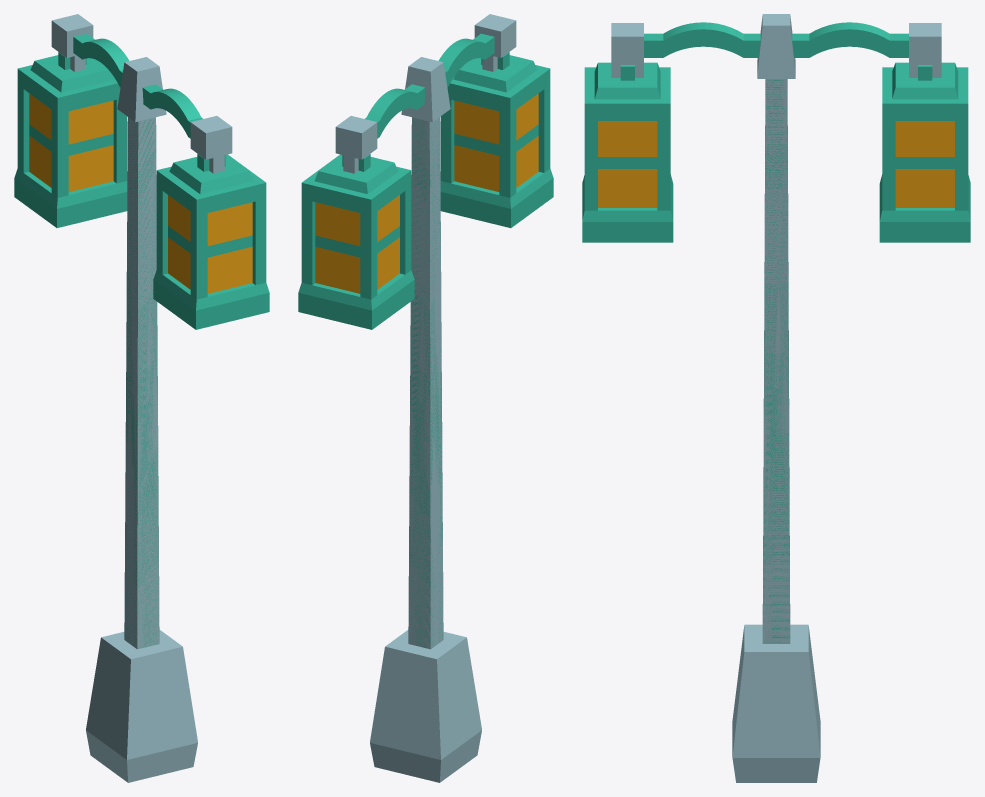
Rendered from lightpostDouble.obj.
3 renders of one model, left to right at view 1: azimuth 30°, elevation 25°; view 2: azimuth 150°, elevation 25°; view 3: azimuth 270°, elevation 25°, orthographic. The views are drawn at different scales.
Visible parts, largest first — view 1: lightpostDouble; view 2: lightpostDouble; view 3: lightpostDouble.
Boxes of the visible parts, x1=… form: lightpostDouble: x1=14, y1=14, x2=269, y2=782; lightpostDouble: x1=298, y1=14, x2=553, y2=782; lightpostDouble: x1=582, y1=14, x2=970, y2=782.
Bounding box in the file's own units: 0.1459 × 1.32 × 0.6225.
